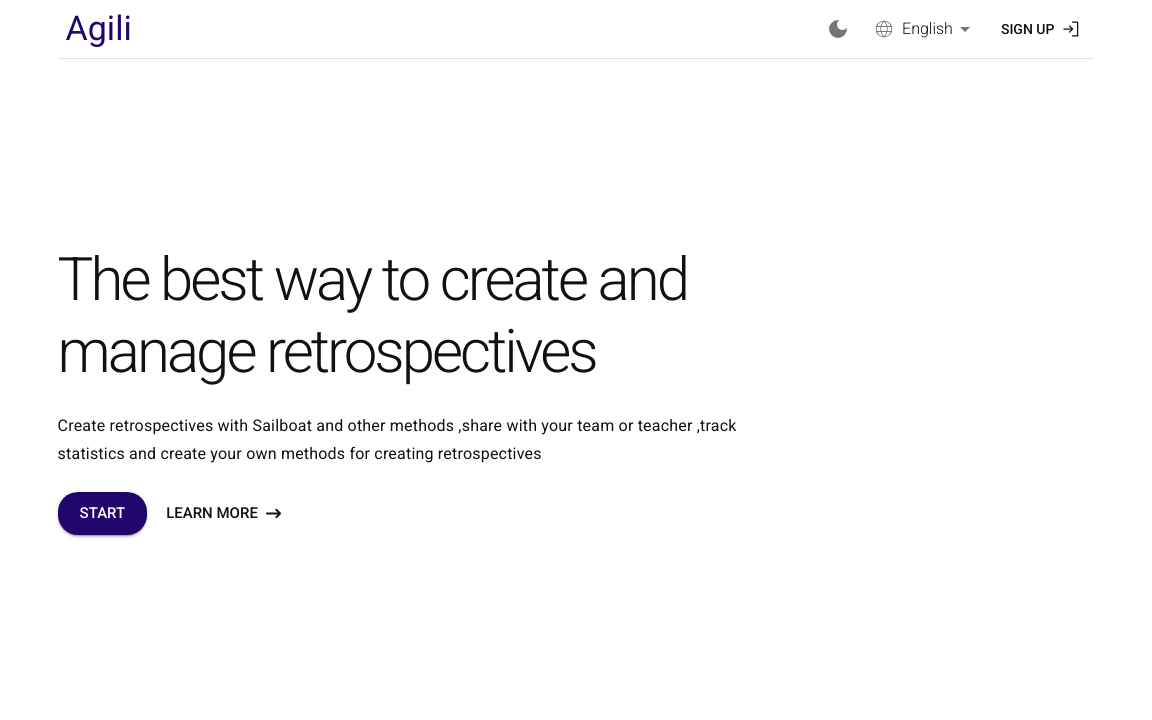
Test: Translation › Unauthenticated change language
Click the dropdown with id "language-select".
click(928, 29)  # box 902,19 -> 953,38
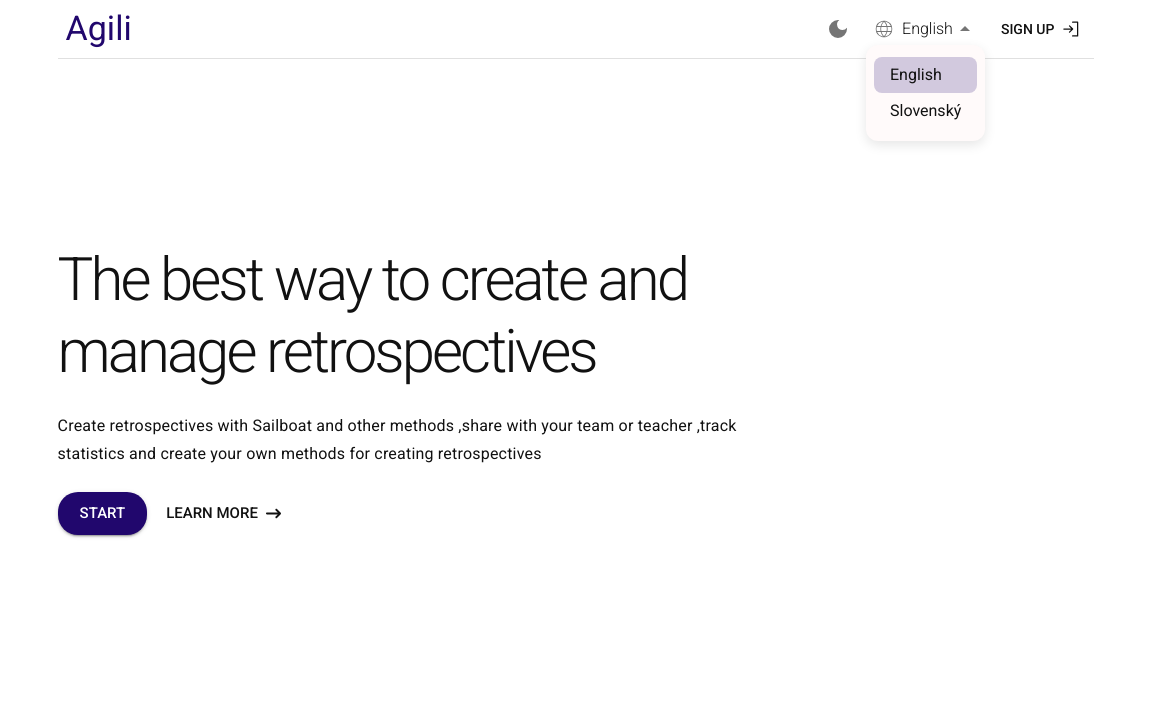
Click the option "Slovenský".
click(926, 111)  # box 890,101 -> 961,120
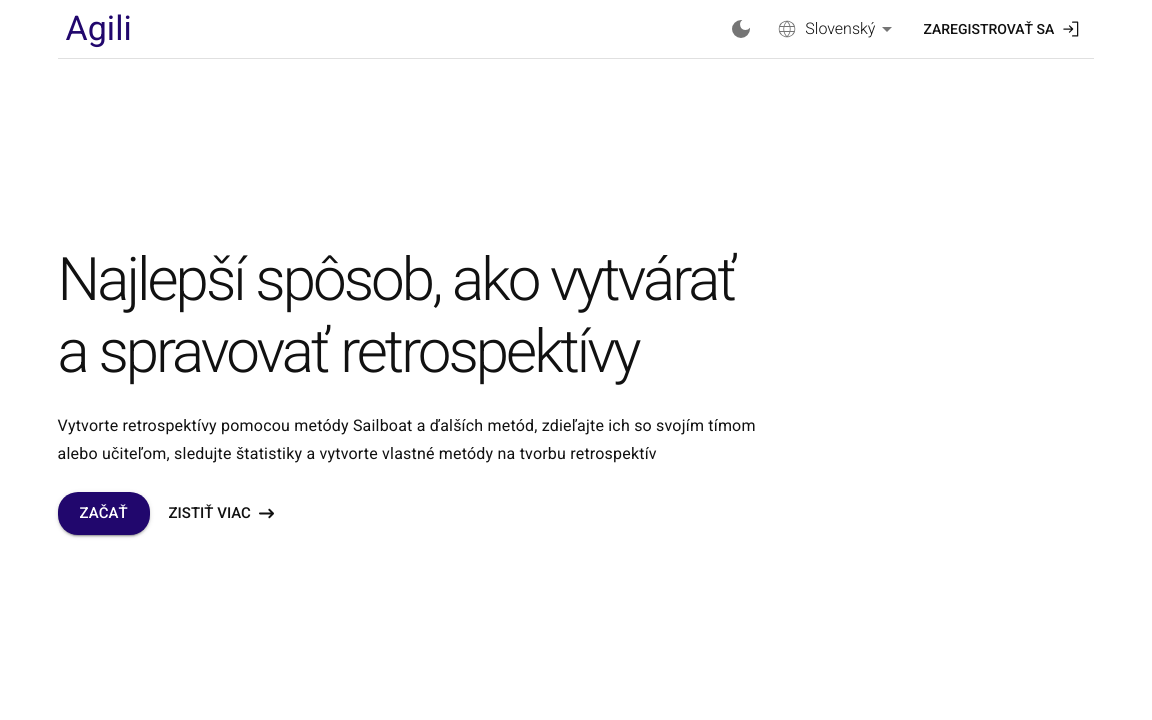
Check: the dropdown with id "language-select" reads "Slovenský", box 805,19 -> 875,38
